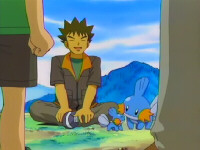mudkip: (123, 78, 158, 130), (96, 107, 124, 132)
